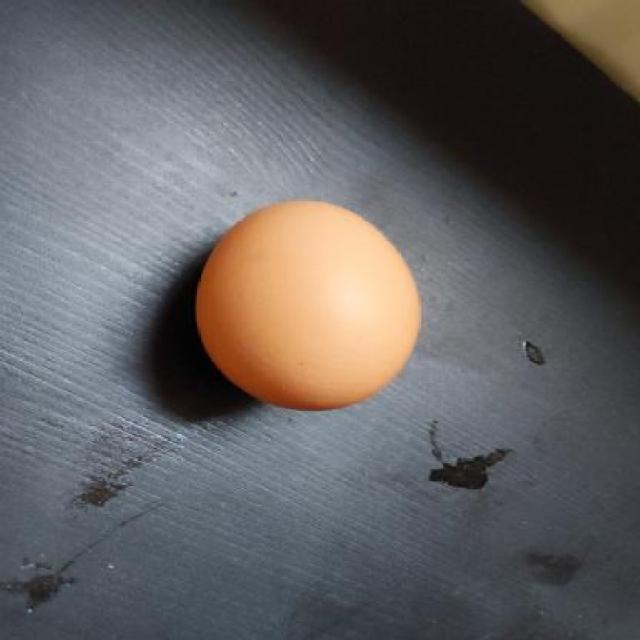biodegradable: (188, 195, 424, 414)
